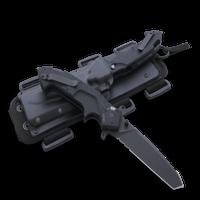knife: (33, 60, 186, 190)
